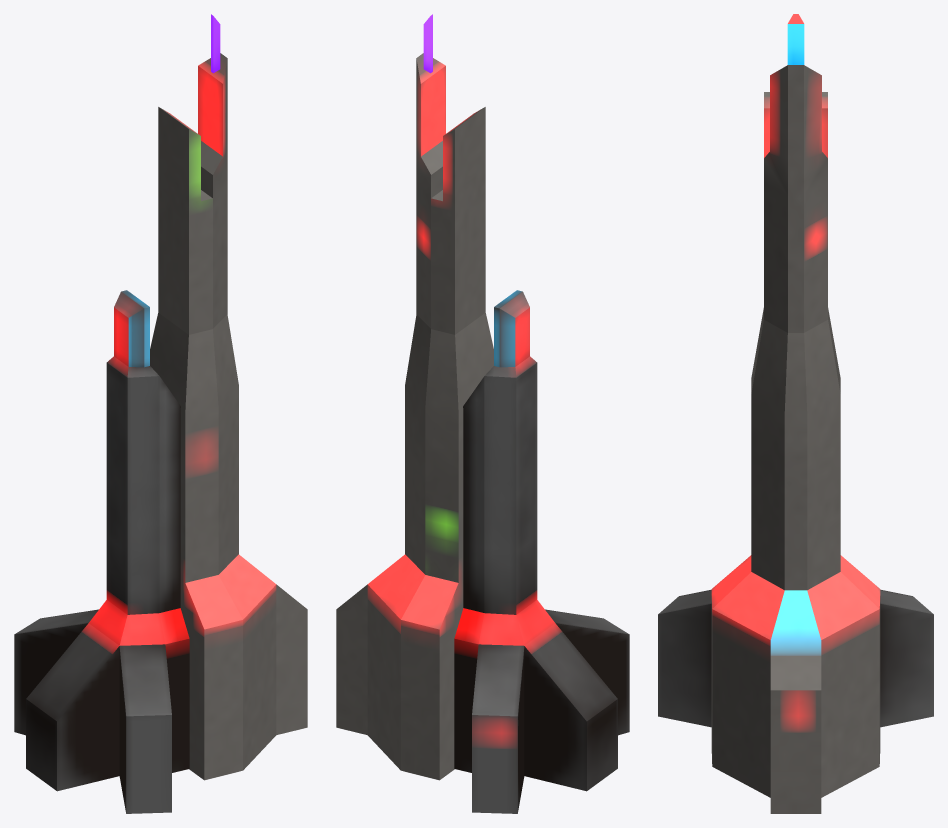
The model's file is SM_BackgroundBuilding_008.fbx.
3 renders of one model, left to right at view 1: azimuth 30°, elevation 25°; view 2: azimuth 150°, elevation 25°; view 3: azimuth 270°, elevation 25°, orthographic. The views are drawn at different scales.
Visible parts, largest first — view 1: SM_BackgroundBuilding_008; view 2: SM_BackgroundBuilding_008; view 3: SM_BackgroundBuilding_008.
Part boxes in pixels (x1=…): SM_BackgroundBuilding_008: x1=14, y1=14, x2=307, y2=813; SM_BackgroundBuilding_008: x1=336, y1=14, x2=629, y2=813; SM_BackgroundBuilding_008: x1=658, y1=14, x2=933, y2=813.
Size of the model in its own units: 813 by 731 by 2216.
1 material, 1 textured.
